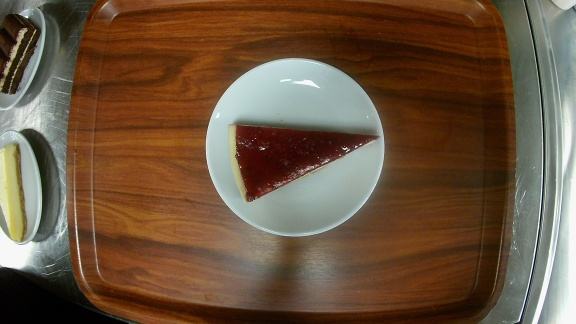frambuazlipasta: (206, 57, 386, 237)
